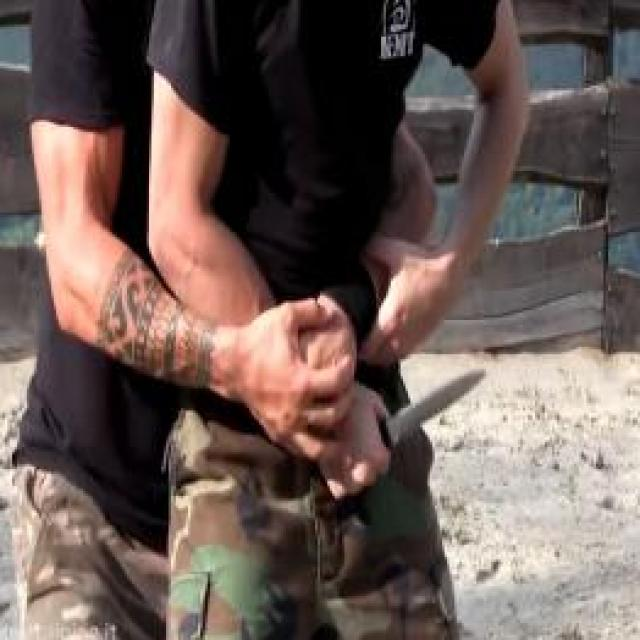knife: (325, 354, 490, 503)
